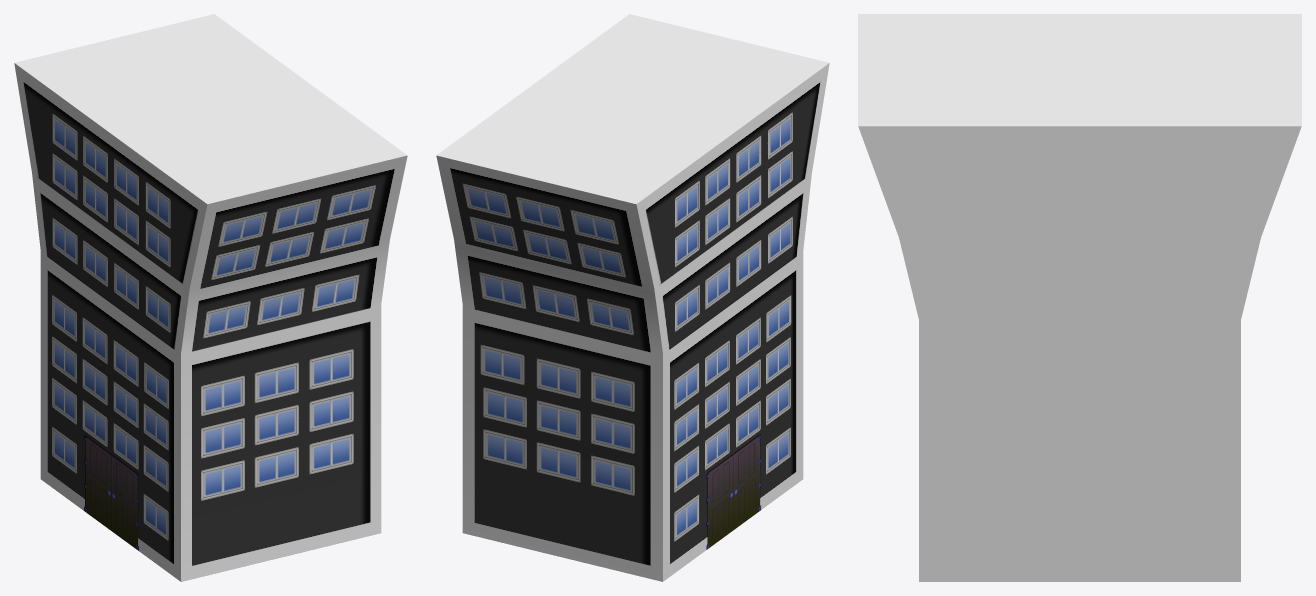
File: Building10.fbx
The picture shows the model from 3 angles, left to right: view 1: azimuth 30°, elevation 25°; view 2: azimuth 150°, elevation 25°; view 3: azimuth 270°, elevation 25°; orthographic projection. The views are drawn at different scales.
Parts seen in each view (by area): view 1: Building21; view 2: Building21; view 3: Building21.
Part boxes in pixels (left/top/right/bottom): Building21: left=14, top=14, right=407, bottom=581; Building21: left=436, top=14, right=829, bottom=581; Building21: left=858, top=14, right=1301, bottom=581.
Bounding box in the file's own units: 817 × 1548 × 1365.
1 material, 1 textured.
